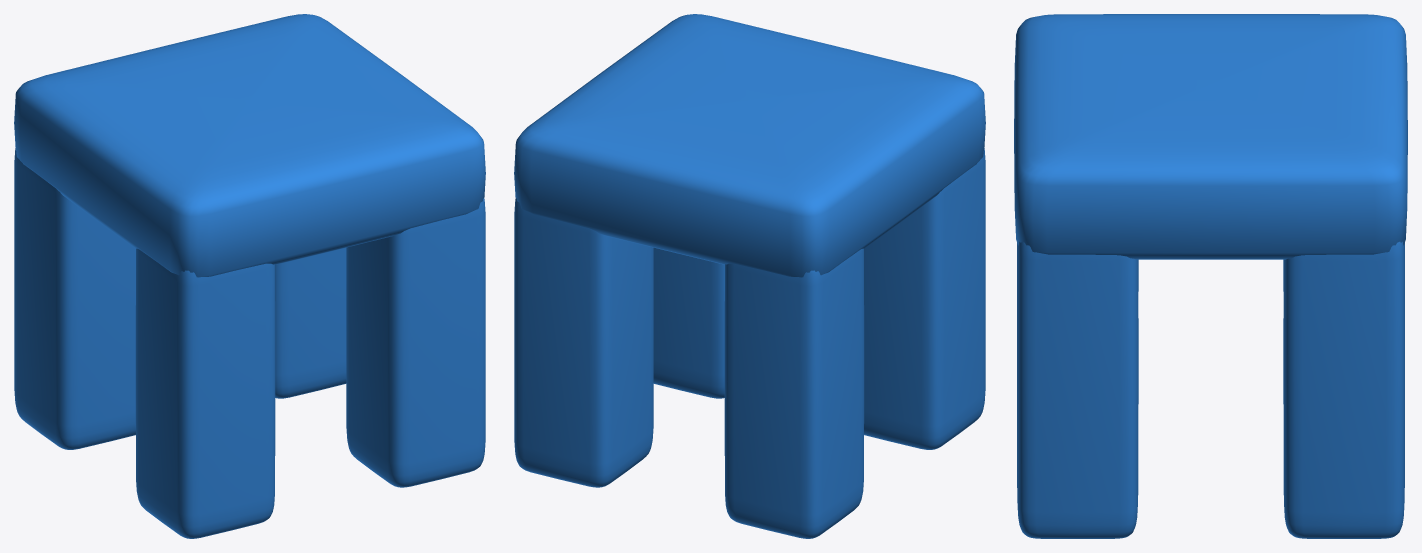
Rendered from banquinho_cubo_azul.glb.
The picture shows the model from 3 angles, left to right: view 1: azimuth 30°, elevation 25°; view 2: azimuth 150°, elevation 25°; view 3: azimuth 270°, elevation 25°; orthographic projection. The views are drawn at different scales.
Parts seen in each view (by area): view 1: banquinho_cubo_azul; view 2: banquinho_cubo_azul; view 3: banquinho_cubo_azul.
Part boxes in pixels (x1,y1,x2,y2): banquinho_cubo_azul: [14, 14, 485, 538]; banquinho_cubo_azul: [514, 14, 985, 538]; banquinho_cubo_azul: [1014, 14, 1407, 538].
Size of the model in its own units: 0.34 by 0.36 by 0.34.
Materials: 1 (1 with a texture image).
